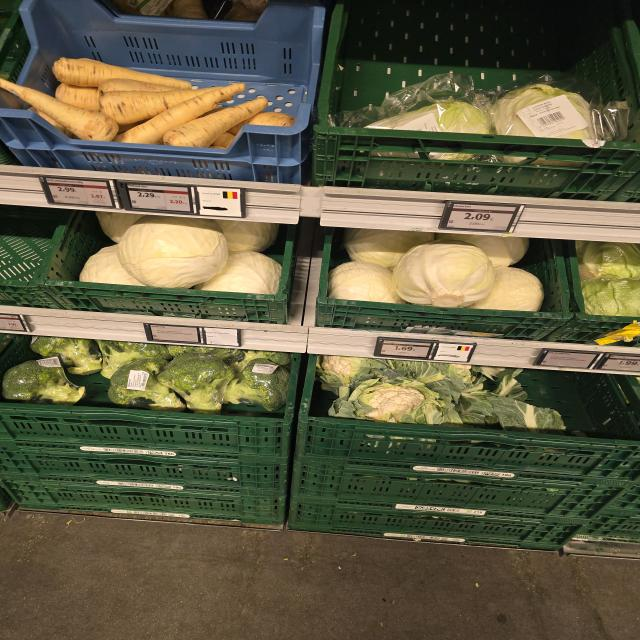Broccoli: (158, 353, 234, 414), (2, 357, 85, 404), (108, 358, 181, 409), (224, 358, 290, 411), (96, 340, 173, 379), (31, 336, 102, 375)
Cauliflower: (333, 380, 446, 424), (317, 355, 392, 399)
